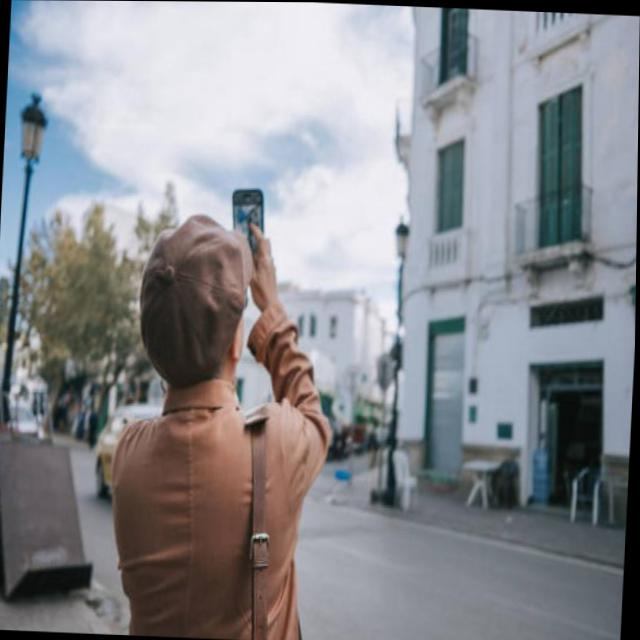no helmet: (130, 207, 274, 394)
